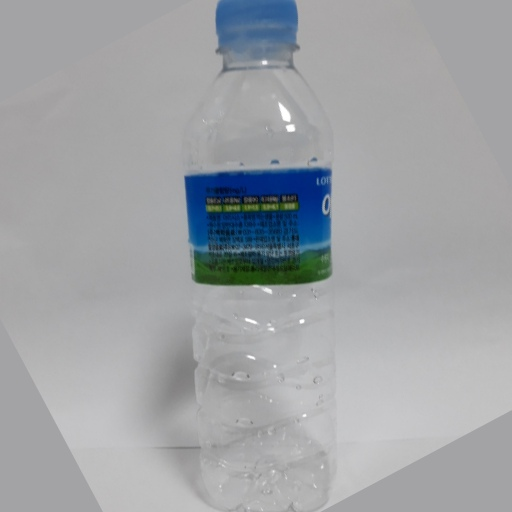Plastic_0: (173, 1, 343, 512)
